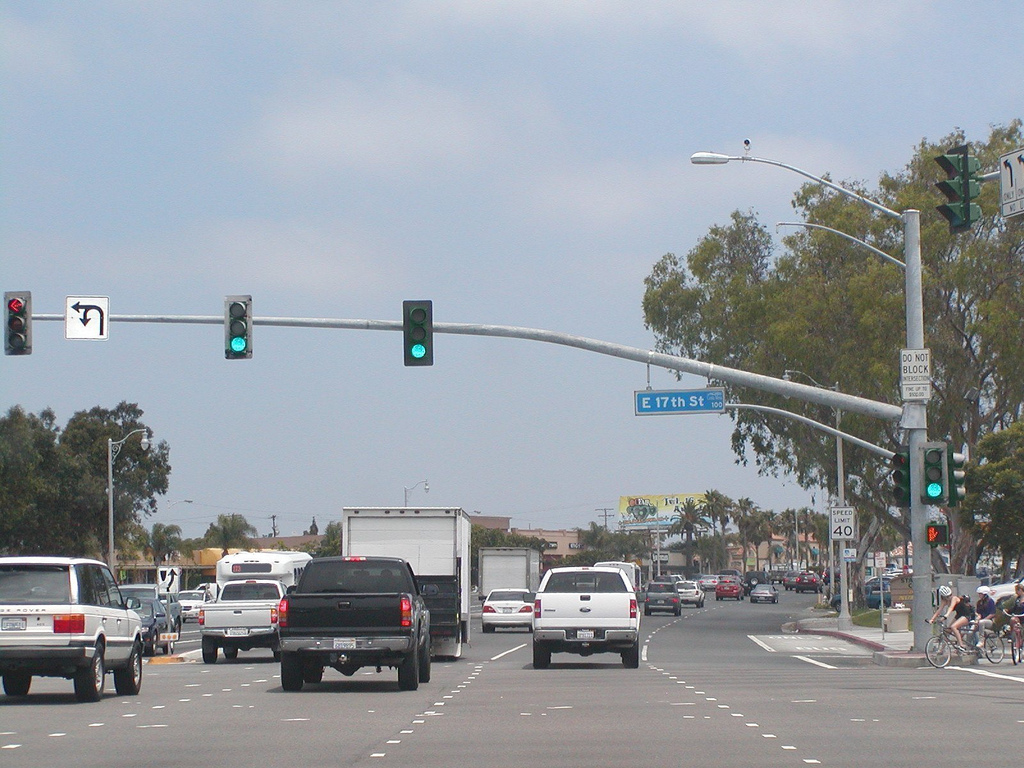traffic_light: (401, 299, 435, 368), (222, 293, 255, 361), (2, 290, 34, 357), (916, 440, 950, 502)
